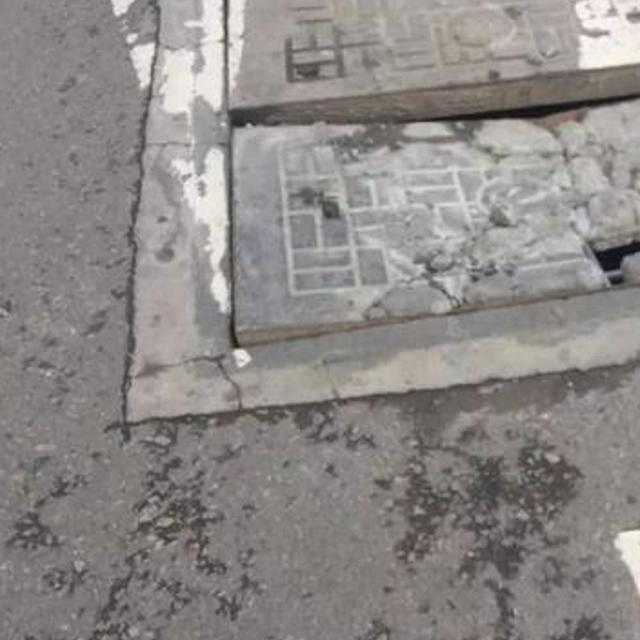broke: (139, 0, 640, 414)
